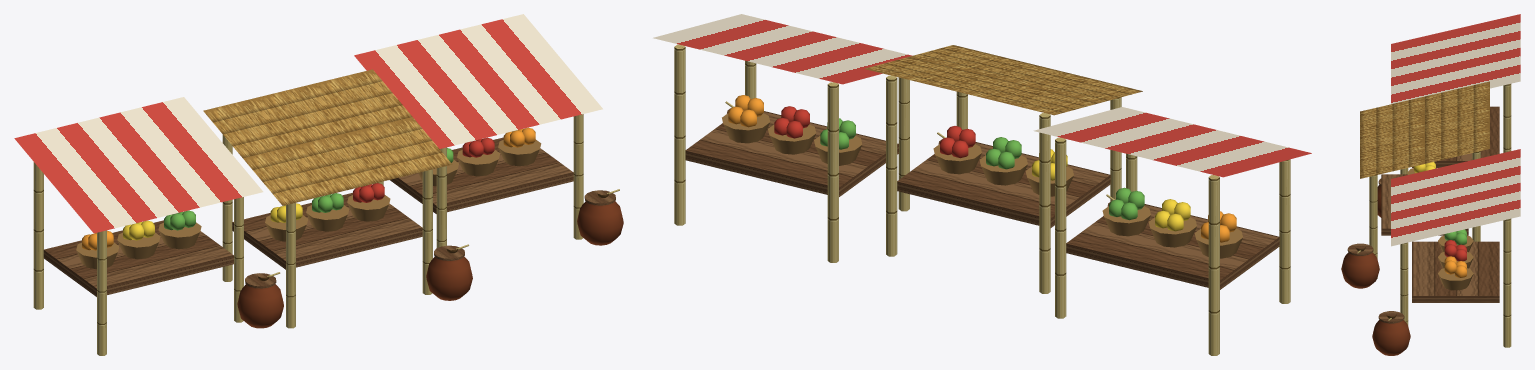
Rendered from cho.glb.
3 renders of one model, left to right at view 1: azimuth 30°, elevation 25°; view 2: azimuth 150°, elevation 25°; view 3: azimuth 270°, elevation 25°, orthographic. The views are drawn at different scales.
Visible parts, largest first — view 1: cho; view 2: cho; view 3: cho.
Boxes of the visible parts, bbox=[...] form: cho: bbox=[14, 14, 623, 355]; cho: bbox=[653, 14, 1311, 355]; cho: bbox=[1341, 14, 1520, 355].
Bounding box in the file's own units: 1.92 × 0.5843 × 0.6969.
Materials: 11 (4 with a texture image).
